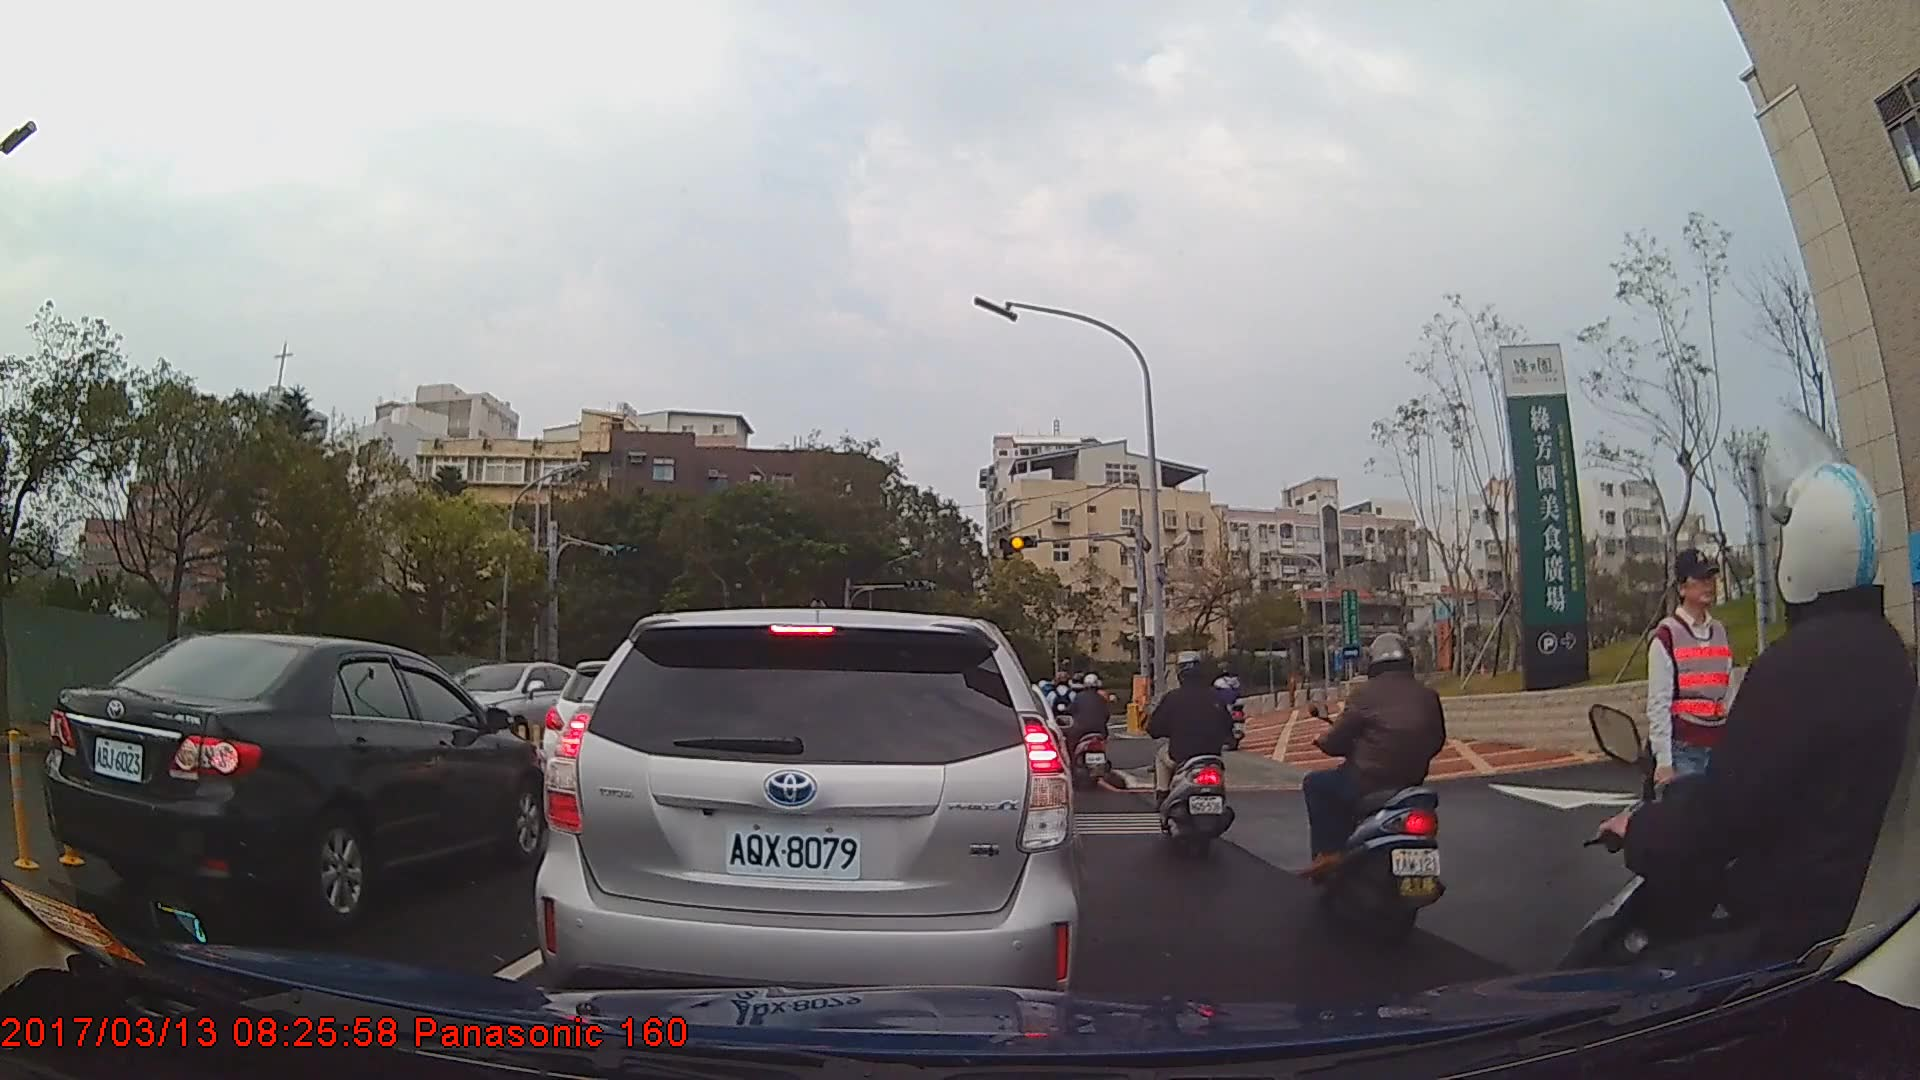pedestrian: (1639, 549, 1750, 959)
rider: (1575, 456, 1920, 1080), (1302, 631, 1460, 945), (1146, 646, 1239, 867), (1071, 672, 1116, 794), (1208, 662, 1244, 754)
vehicle: (534, 606, 1079, 1020), (43, 630, 553, 926), (441, 660, 578, 754)
